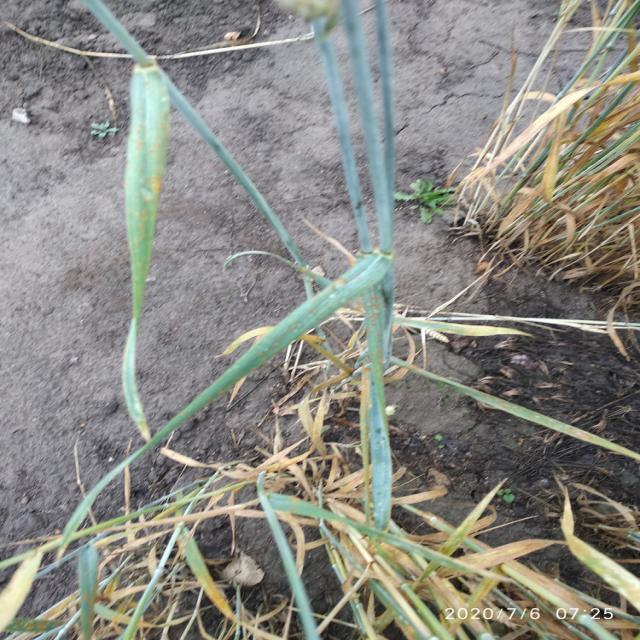wheat-septoria: (141, 101, 167, 223)
